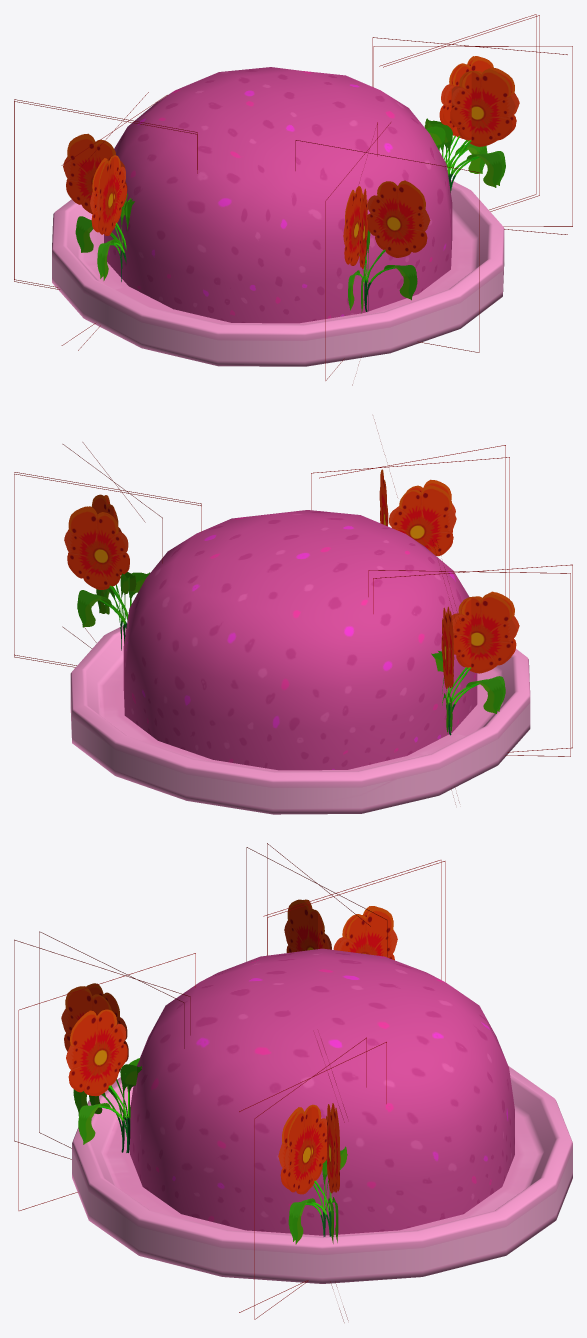
Rendered from SM_Flower_Hat.fbx.
The picture shows the model from 3 angles, top to bottom: view 1: azimuth 30°, elevation 25°; view 2: azimuth 150°, elevation 25°; view 3: azimuth 270°, elevation 25°; orthographic projection. The views are drawn at different scales.
Visible parts, largest first — view 1: polySurface19; view 2: polySurface19; view 3: polySurface19.
Boxes of the visible parts, left/top/right/bottom form: polySurface19: left=14, top=14, right=572, bottom=385; polySurface19: left=14, top=419, right=572, bottom=814; polySurface19: left=14, top=843, right=572, bottom=1322.
Size of the model in its own units: 2.97 by 1.03 by 2.51.
Materials: 1 (1 with a texture image).
